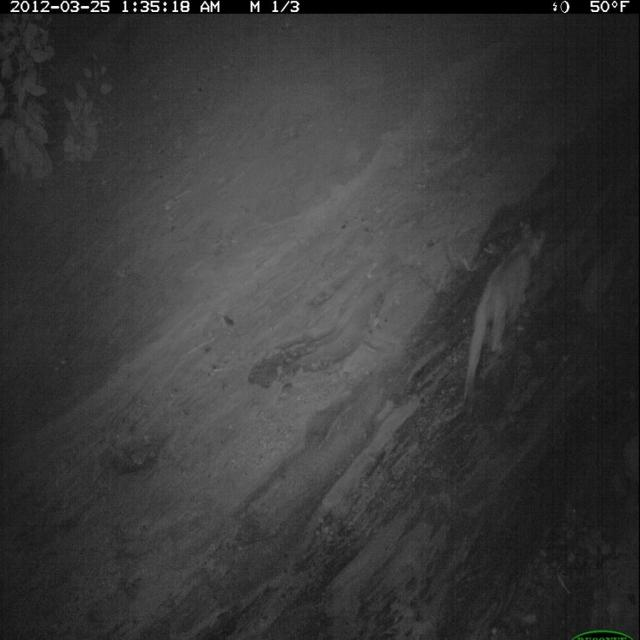bobcat: (448, 219, 548, 415)
